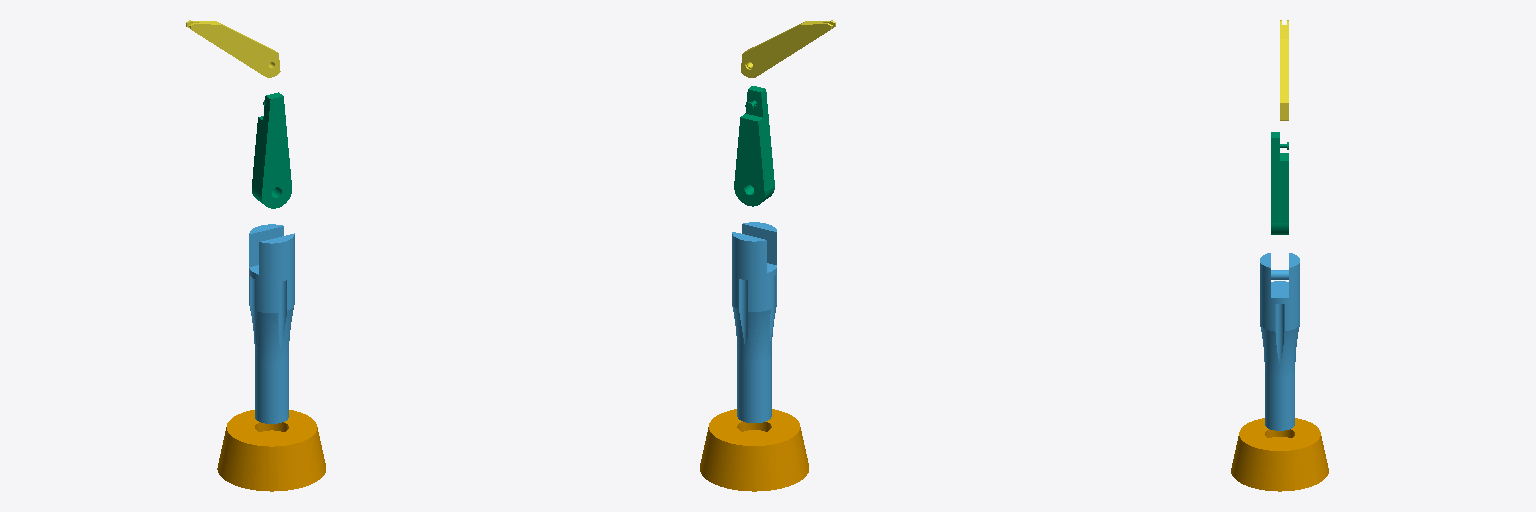
URDF robot description (naim_arm):
<?xml version="1.0"?>
<robot name="naim_arm">
  <link name="stand">
    <visual>
      <geometry>
        <mesh filename="package://meshes/stand.stl" scale="0.001 0.001 0.001"/>
      </geometry>
    </visual>
  </link>
  <link name="govde">
    <visual>
      <geometry>
        <mesh filename="package://meshes/govde.stl" scale="0.001 0.001 0.001"/>
      </geometry>
    </visual>
  </link>
  <link name="eklem">
    <visual>
      <geometry>
        <mesh filename="package://meshes/eklem.stl" scale="0.001 0.001 0.001"/>
      </geometry>
    </visual>
  </link>
  <link name="kol">
    <visual>
      <geometry>
        <mesh filename="package://meshes/kol.stl" scale="0.001 0.001 0.001"/>
      </geometry>
    </visual>
  </link>

  <joint name="stand_to_govde" type="revolute">
    <parent link="stand"/>
    <child link="govde"/>
    <origin xyz="0 0 0.1" rpy="0 0 0"/>
    <axis xyz="0 0 1"/>
    <limit lower="-1.57" upper="1.57" effort="1.0" velocity="1.0"/>
  </joint>
  <joint name="govde_to_eklem" type="revolute">
    <parent link="govde"/>
    <child link="eklem"/>
    <origin xyz="0 0 0.3" rpy="0 0 0"/>
    <axis xyz="1 0 0"/>
    <limit lower="-1.57" upper="1.57" effort="1.0" velocity="1.0"/>
  </joint>
  <joint name="eklem_to_kol" type="revolute">
    <parent link="eklem"/>
    <child link="kol"/>
    <origin xyz="0 0 0.2" rpy="0 0 0"/>
    <axis xyz="0 1 0"/>
    <limit lower="-1.57" upper="1.57" effort="1.0" velocity="1.0"/>
  </joint>

</robot>

--- What the picture shows (computed from the rendered views, not written in the file) ---
Views: 3 orthographic renders of the robot side by side, from view 1: azimuth 30°, elevation 25°; view 2: azimuth 150°, elevation 25°; view 3: azimuth 270°, elevation 25°.
Robot: naim_arm — 4 links, 3 joints (3 revolute); root link stand; default pose: every joint at zero.
Links seen in each view (by area): view 1: govde, stand, eklem, kol; view 2: govde, stand, eklem, kol; view 3: govde, stand, eklem, kol.
Link boxes in pixels (x1=…): govde: x1=249, y1=224, x2=294, y2=423; stand: x1=217, y1=410, x2=325, y2=491; eklem: x1=252, y1=92, x2=291, y2=208; kol: x1=186, y1=20, x2=280, y2=77; govde: x1=732, y1=222, x2=776, y2=422; stand: x1=700, y1=409, x2=808, y2=491; eklem: x1=734, y1=86, x2=774, y2=206; kol: x1=741, y1=20, x2=835, y2=77; govde: x1=1260, y1=253, x2=1299, y2=430; stand: x1=1231, y1=418, x2=1328, y2=491; eklem: x1=1271, y1=132, x2=1288, y2=234; kol: x1=1280, y1=20, x2=1288, y2=120.
Size in the robot's own frame: 0.6531 by 0.4799 by 2.25 metres.
4 mesh visuals loaded from 4 distinct referenced files (4 binary STL).
